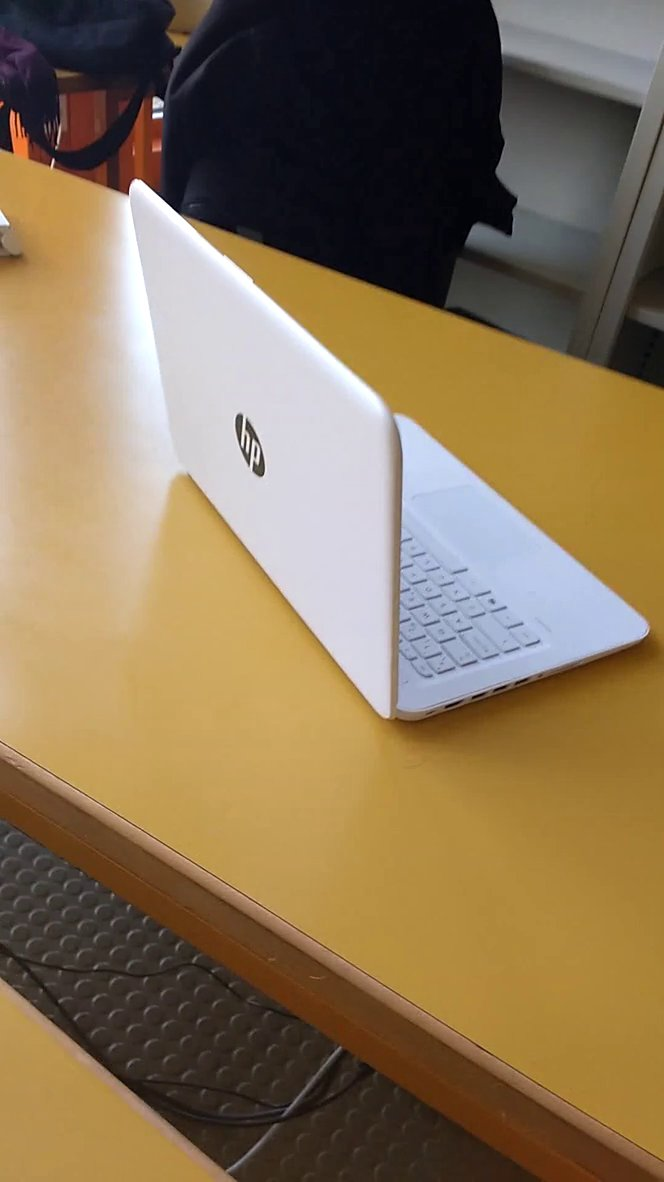laptop: (113, 173, 658, 741)
